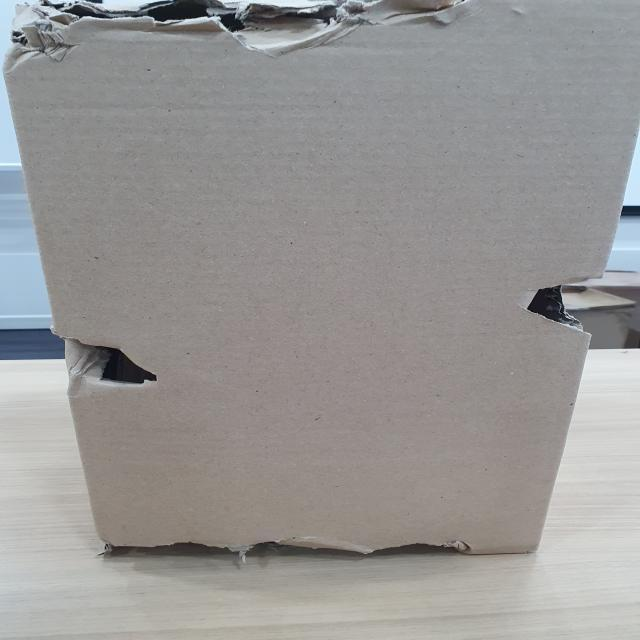hole: (27, 0, 444, 40), (100, 529, 489, 561), (72, 337, 184, 398), (512, 272, 596, 341)
